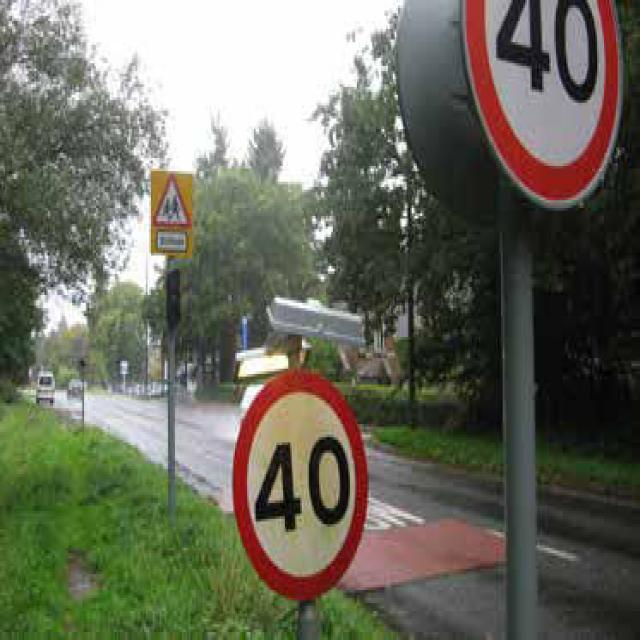speed limit 40: (456, 0, 624, 222), (230, 365, 371, 607)
